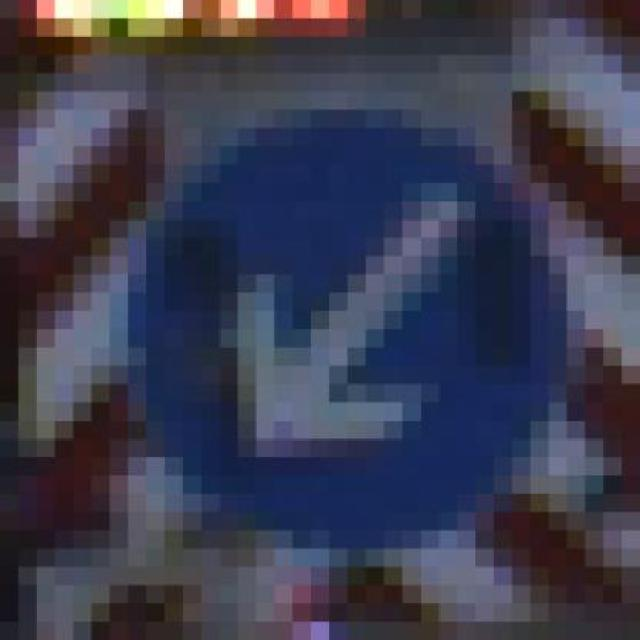Keep-Left: (110, 73, 585, 585)
